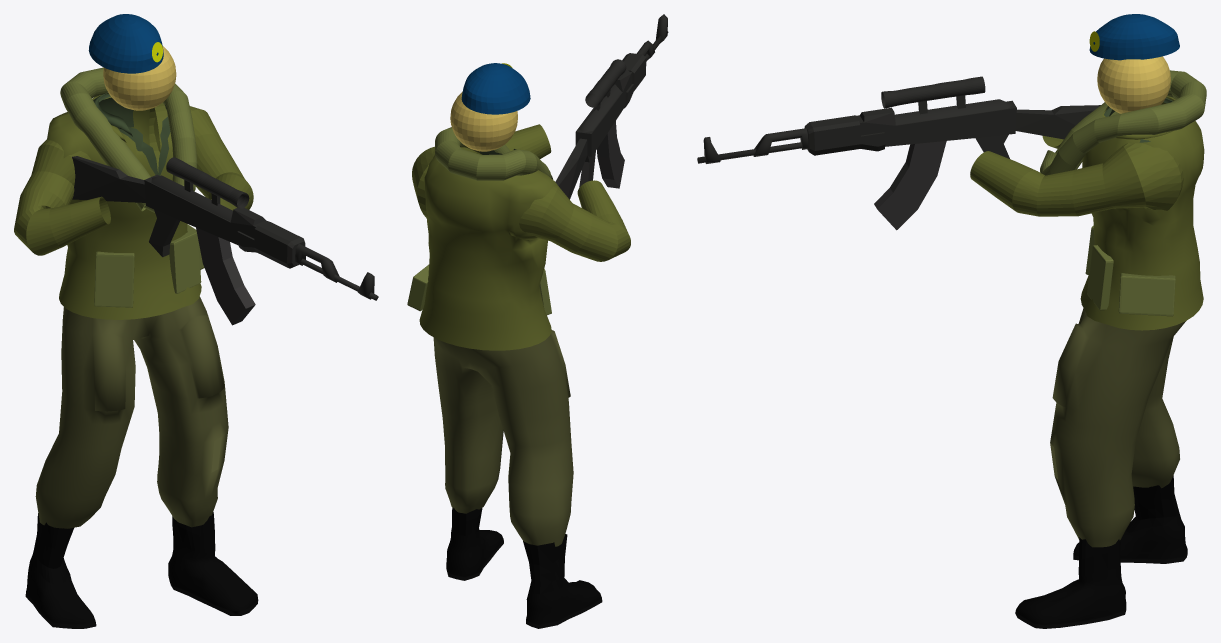
File: Marines.dae
The picture shows the model from 3 angles, left to right: view 1: azimuth 30°, elevation 25°; view 2: azimuth 150°, elevation 25°; view 3: azimuth 270°, elevation 25°; orthographic projection. The views are drawn at different scales.
Parts seen in each view (by area): view 1: pants, jacket, AK, sleeve_right, Circle, shoe_left, shoe_right, hat, sleeve_left, AK_clip, Sphere, Cube_001 (+3 smaller); view 2: pants, jacket, sleeve_right, AK, shoe_right, Circle, hat, shoe_left, Sphere, sleeve_left, AK_clip, Cylinder_000 (+1 smaller); view 3: pants, jacket, AK, sleeve_left, Circle, shoe_left, shoe_right, Sphere, hat, AK_clip, Cube_003, Cylinder_000 (+1 smaller).
Boxes of the visible parts, x1,y1,x2,y2 form: pants: (35,296,228,528); jacket: (47,95,201,319); AK: (72,156,378,300); sleeve_right: (14,139,110,255); Circle: (60,67,197,212); shoe_left: (168,512,258,615); shoe_right: (25,513,96,628); hat: (88,14,163,73); sleeve_left: (149,103,253,210); AK_clip: (196,227,255,325); Sphere: (103,46,176,110); Cube_001: (94,251,134,307); pants: (433,330,573,546); jacket: (419,146,558,350); sleeve_right: (519,180,630,261); AK: (555,14,668,199); shoe_right: (523,534,602,628); Circle: (435,127,553,180); hat: (461,63,530,114); shoe_left: (446,507,503,580); Sphere: (450,92,517,151); sleeve_left: (412,124,551,219); AK_clip: (597,121,624,188); Cylinder_000: (585,59,626,110); pants: (1050,308,1185,547); jacket: (1080,96,1204,330); AK: (697,99,1100,163); sleeve_left: (970,142,1183,216); Circle: (1040,70,1206,175); shoe_left: (1015,537,1126,628); shoe_right: (1073,475,1187,563); Sphere: (1097,56,1170,113); hat: (1089,14,1179,60); AK_clip: (874,141,946,230); Cube_003: (1118,273,1175,316); Cylinder_000: (881,76,985,114).
Bounding box in the file's own units: 1.07 × 2.23 × 2.77.
